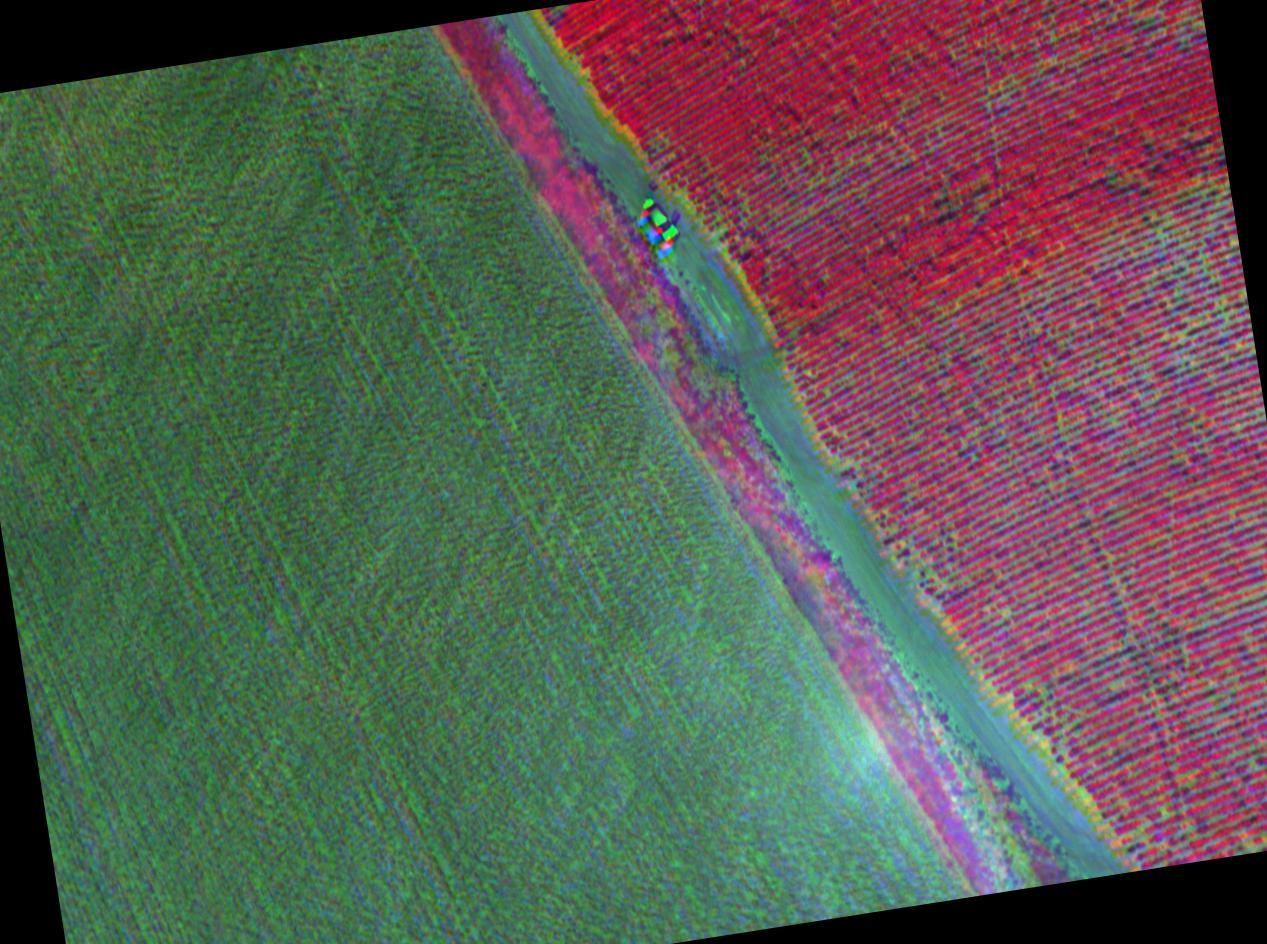dc: (1139, 190, 1203, 269), (1230, 741, 1267, 860), (837, 453, 899, 511), (894, 542, 960, 588), (1016, 676, 1072, 728), (1051, 739, 1108, 778)
